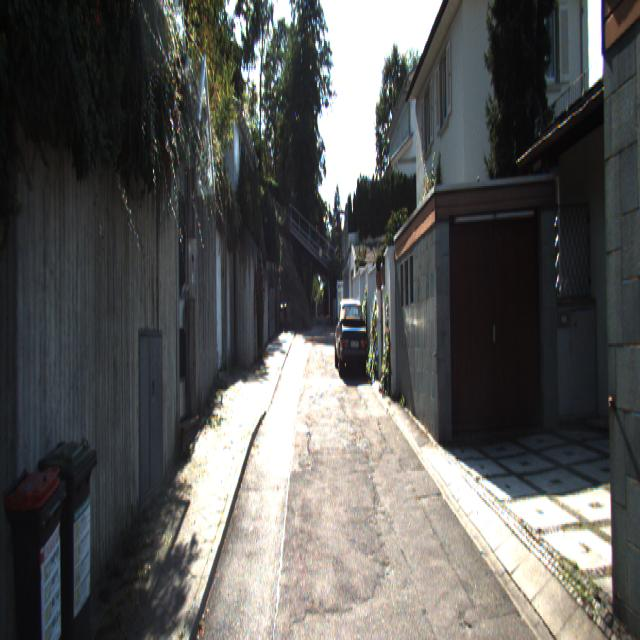Car: (333, 296, 369, 380)
